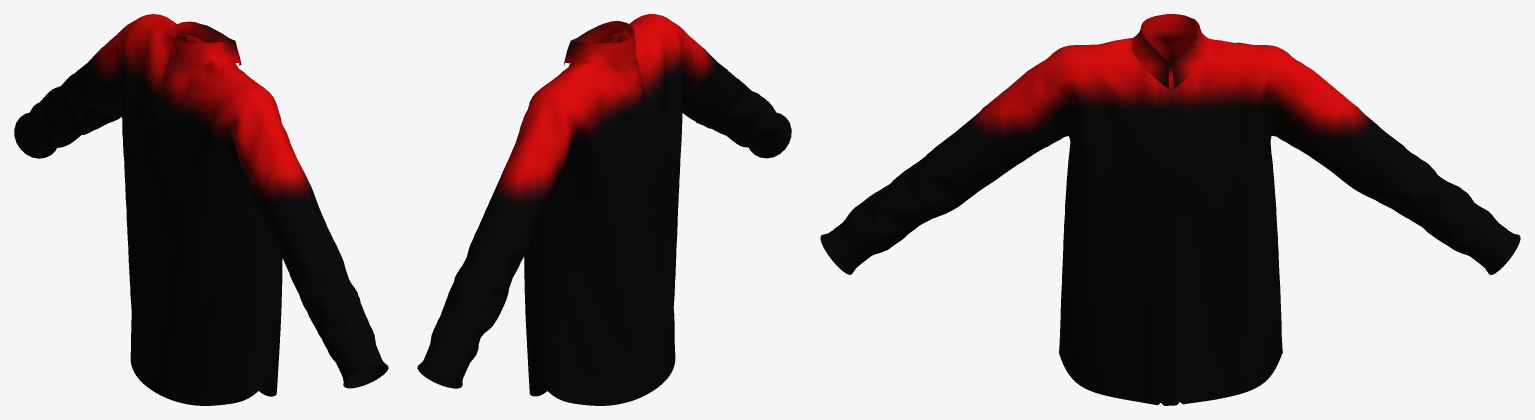
The model's file is flannel_overshirt.fbx.
3 views of the same model, side by side, from view 1: azimuth 30°, elevation 25°; view 2: azimuth 150°, elevation 25°; view 3: azimuth 270°, elevation 25° (orthographic).
Parts seen in each view (by area): view 1: flannel_overshirt; view 2: flannel_overshirt; view 3: flannel_overshirt.
Part boxes in pixels (x1,y1,x2,y2): flannel_overshirt: (14, 14, 388, 405); flannel_overshirt: (417, 14, 791, 405); flannel_overshirt: (820, 14, 1520, 405).
Bounding box in the file's own units: 24.03 × 130 × 71.99.
